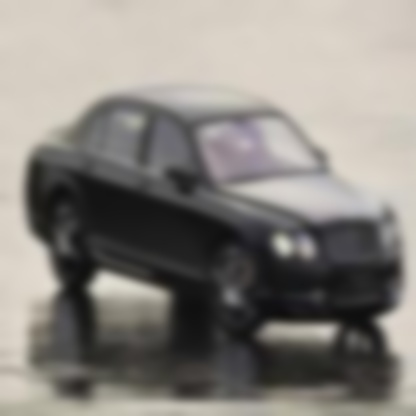Vehicle: (23, 82, 410, 350)
